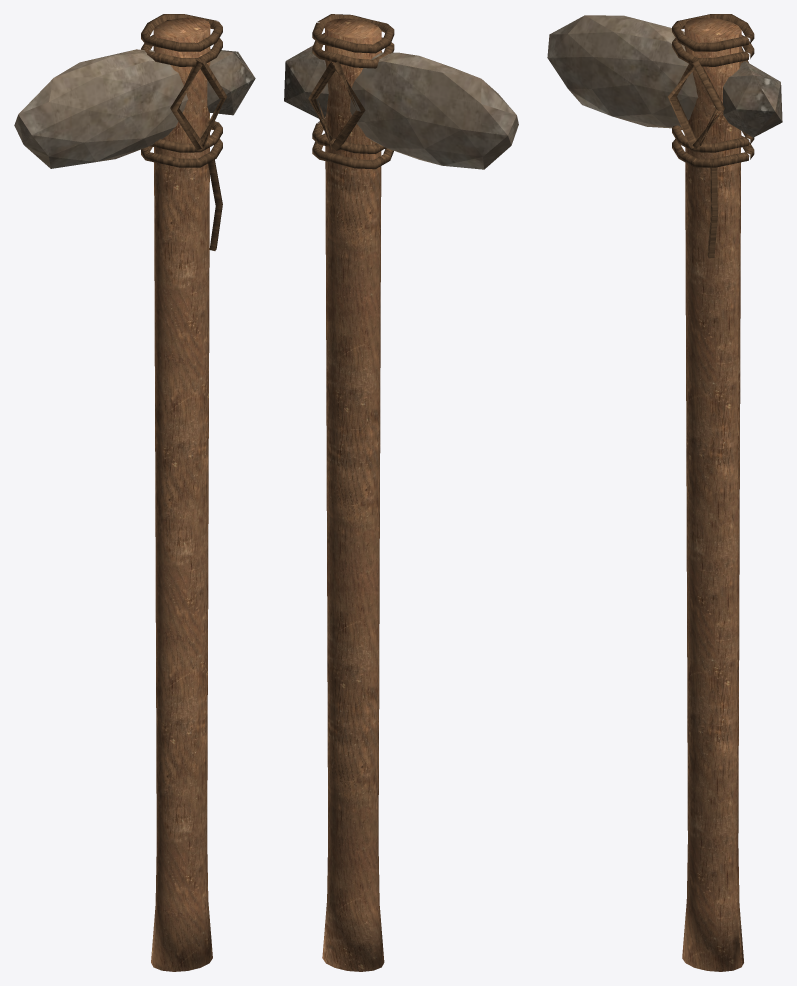
Rendered from b_tool_axe2.glb.
The picture shows the model from 3 angles, left to right: view 1: azimuth 30°, elevation 25°; view 2: azimuth 150°, elevation 25°; view 3: azimuth 330°, elevation 25°; orthographic projection.
Visible parts, largest first — view 1: b_tool_axe2; view 2: b_tool_axe2; view 3: b_tool_axe2.
Part boxes in pixels (x1=…): b_tool_axe2: x1=14, y1=14, x2=255, y2=971; b_tool_axe2: x1=284, y1=14, x2=518, y2=971; b_tool_axe2: x1=547, y1=14, x2=782, y2=971.
Size of the model in its own units: 0.1923 by 0.7413 by 0.059.
Materials: 3 (3 with a texture image).
